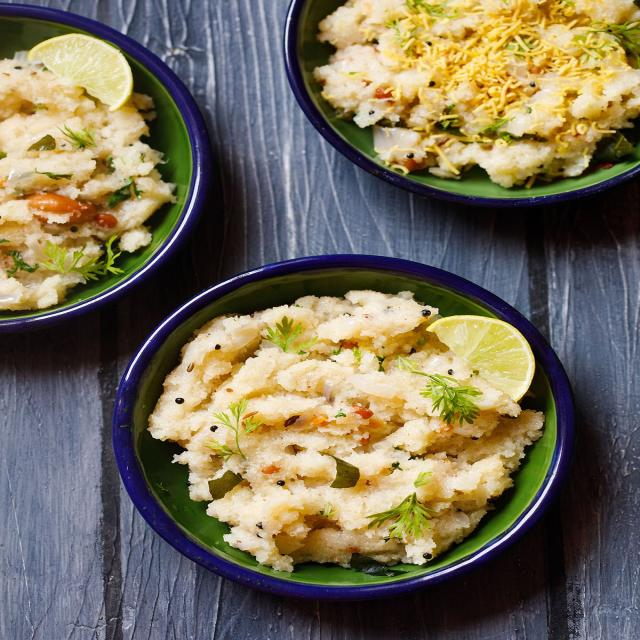UPMA: (146, 292, 542, 569), (0, 37, 179, 308)
